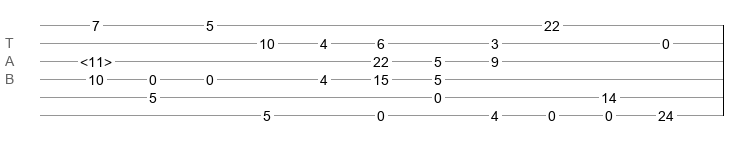0: (149, 72, 157, 82), (206, 72, 214, 82), (377, 108, 385, 118), (434, 90, 442, 100), (548, 108, 556, 118), (605, 108, 613, 118), (662, 36, 670, 46)
10: (88, 72, 104, 82), (259, 36, 275, 46)
14: (601, 90, 617, 100)
15: (373, 72, 389, 82)
22: (373, 54, 389, 64), (544, 18, 560, 28)
24: (658, 108, 674, 118)
3: (491, 36, 499, 46)
4: (320, 72, 328, 82), (320, 36, 328, 46), (491, 108, 499, 118)
5: (149, 90, 157, 100), (206, 18, 214, 28), (263, 108, 271, 118), (434, 72, 442, 82), (434, 54, 442, 64)
6: (377, 36, 385, 46)
7: (92, 18, 100, 28)
9: (491, 54, 499, 64)
harmonic: (80, 54, 112, 64)
